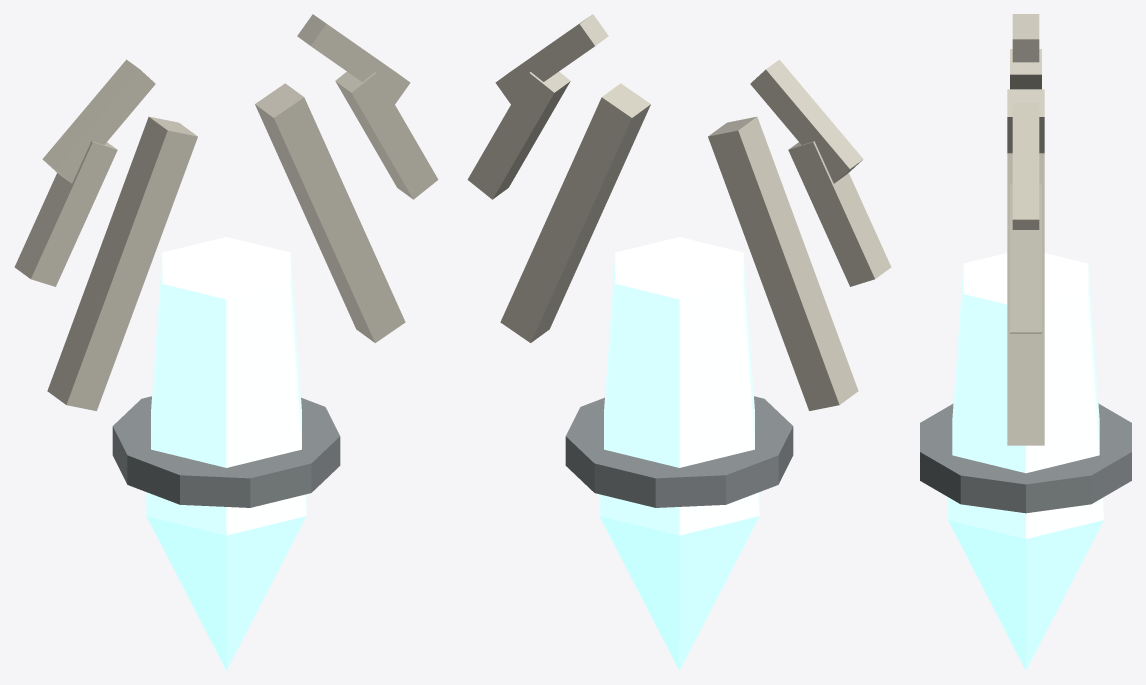
Rendered from boss-eikthyr-stormheart.glb.
3 views of the same model, side by side, from view 1: azimuth 30°, elevation 25°; view 2: azimuth 150°, elevation 25°; view 3: azimuth 270°, elevation 25° (orthographic). The views are drawn at different scales.
Parts seen in each view (by area): view 1: heart, left-antler, right-antler, heart-band, antler-branch-a--1, antler-branch-a-1, antler-branch-b--1, antler-branch-b-1; view 2: heart, left-antler, right-antler, heart-band, antler-branch-a--1, antler-branch-a-1, antler-branch-b--1, antler-branch-b-1; view 3: heart, heart-band, right-antler, antler-branch-a-1, antler-branch-b-1, antler-branch-b--1, left-antler, antler-branch-a--1.
Part boxes in pixels (box(x1,y1,x2,y2)): heart: box(146, 237, 306, 670); left-antler: box(47, 116, 197, 410); right-antler: box(255, 83, 405, 342); heart-band: box(112, 396, 340, 507); antler-branch-a--1: box(14, 141, 117, 286); antler-branch-a-1: box(335, 72, 438, 199); antler-branch-b--1: box(42, 59, 155, 183); antler-branch-b-1: box(297, 14, 410, 103); heart: box(599, 237, 759, 670); left-antler: box(708, 116, 858, 410); right-antler: box(500, 83, 650, 342); heart-band: box(565, 396, 793, 507); antler-branch-a--1: box(788, 141, 891, 286); antler-branch-a-1: box(467, 72, 570, 199); antler-branch-b--1: box(750, 59, 863, 183); antler-branch-b-1: box(495, 14, 608, 103); heart: box(948, 253, 1103, 670); heart-band: box(920, 403, 1131, 513); right-antler: box(1007, 153, 1044, 445); antler-branch-a-1: box(1010, 184, 1041, 333); antler-branch-b-1: box(1012, 102, 1039, 229); antler-branch-b--1: box(1012, 14, 1039, 62); left-antler: box(1007, 89, 1044, 152); antler-branch-a--1: box(1010, 49, 1041, 89).
Bounding box in the file's own units: 0.8644 × 1.27 × 0.3994.
